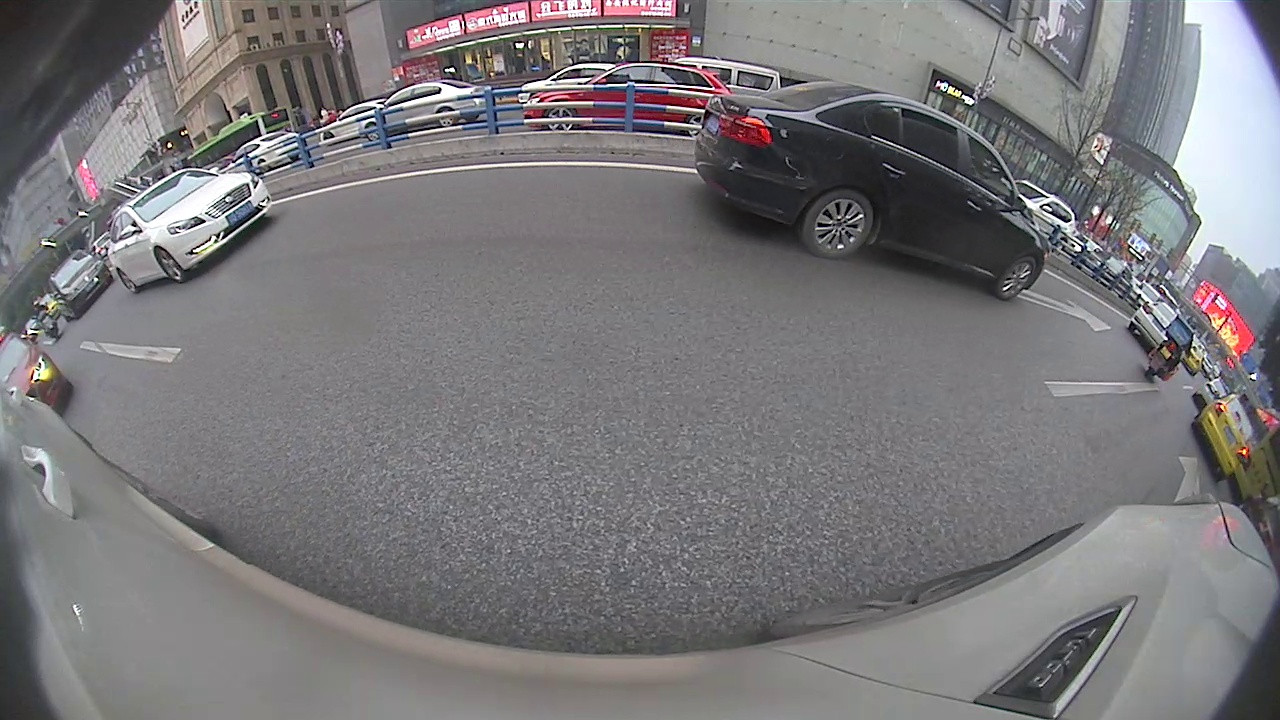car: (698, 43, 1053, 301), (106, 167, 274, 295)
front: (994, 257, 1036, 300), (154, 247, 184, 284), (546, 102, 578, 134)
rear: (803, 190, 874, 260)
